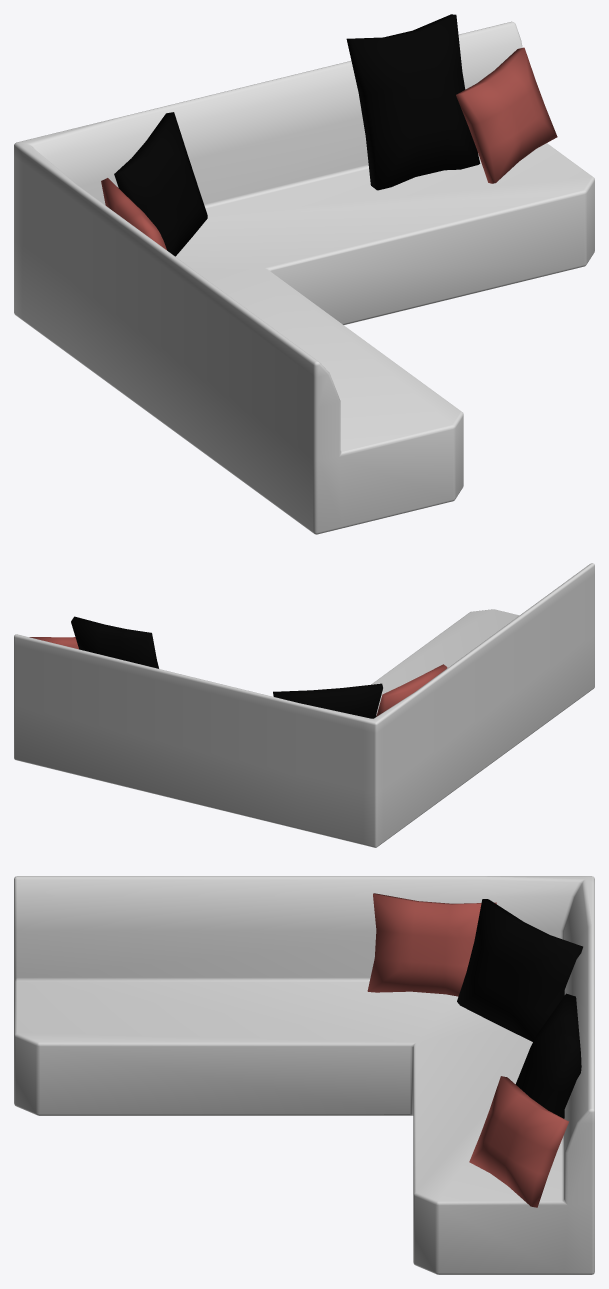
The model's file is bank.fbx.
3 renders of one model, top to bottom at view 1: azimuth 30°, elevation 25°; view 2: azimuth 150°, elevation 25°; view 3: azimuth 270°, elevation 25°, orthographic. The views are drawn at different scales.
Visible parts, largest first — view 1: pillow 2.003; view 2: pillow 2.003; view 3: pillow 2.003.
Part boxes in pixels (bbox=[...]): pillow 2.003: bbox=[14, 14, 594, 534]; pillow 2.003: bbox=[14, 563, 594, 847]; pillow 2.003: bbox=[14, 876, 594, 1274].
Bounding box in the file's own units: 368 × 143 × 377.
